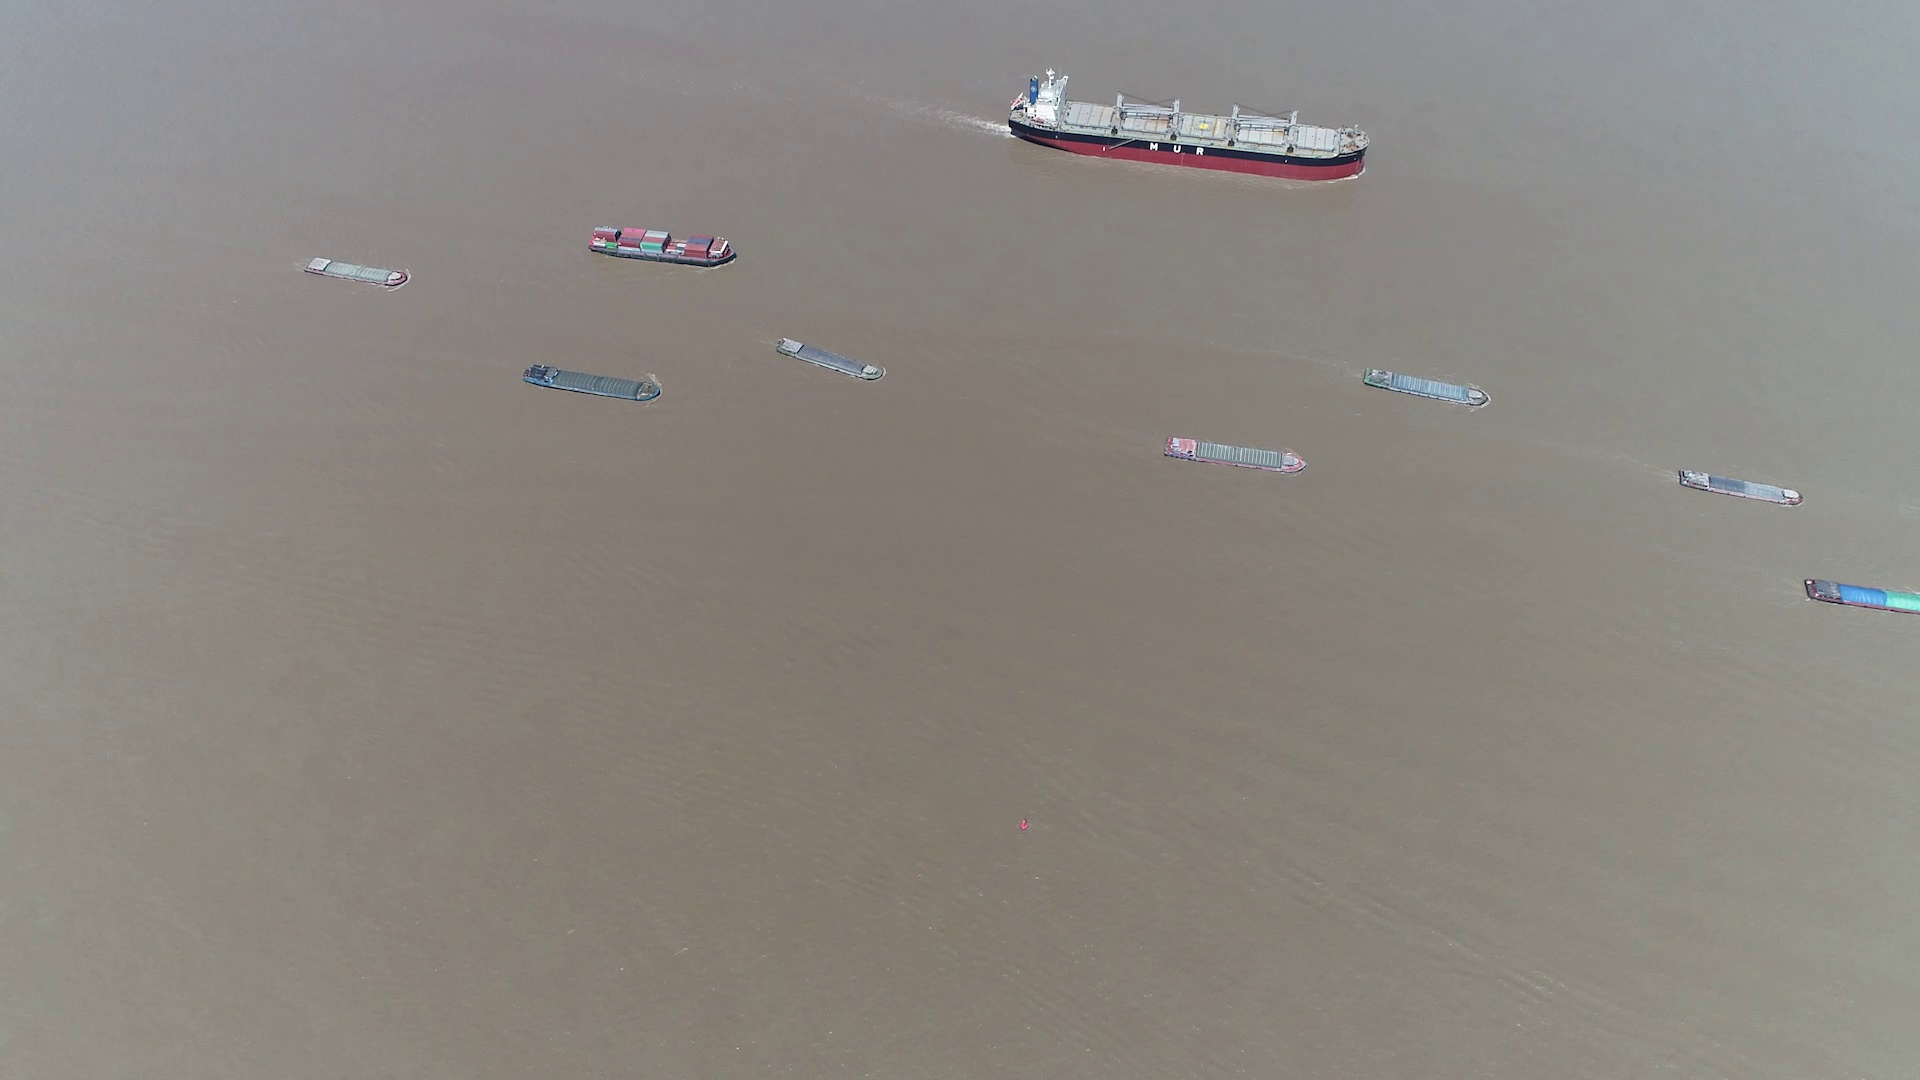ship: (1007, 73, 1367, 178), (589, 225, 738, 266), (1164, 435, 1307, 473), (521, 365, 663, 404), (1362, 367, 1490, 407), (775, 338, 884, 382), (1675, 469, 1804, 506), (1804, 578, 1920, 617), (305, 256, 411, 287)
